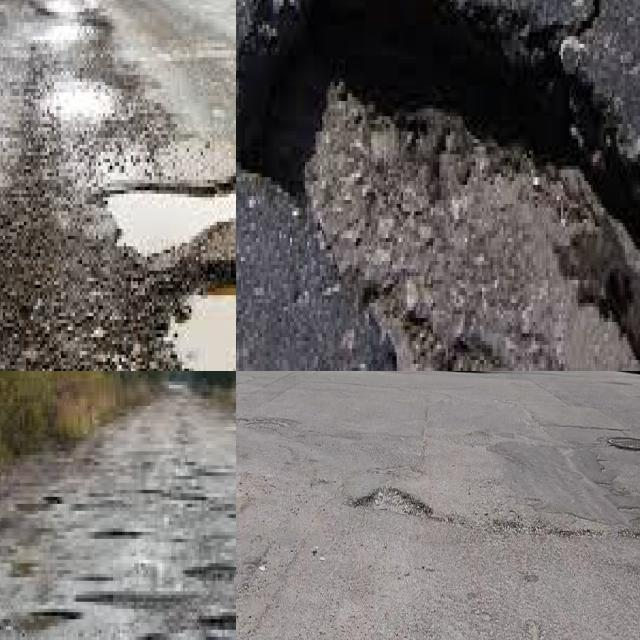Pothole: (260, 0, 640, 371), (105, 190, 236, 257), (166, 288, 236, 371), (351, 482, 433, 521), (133, 612, 236, 640), (0, 609, 80, 633), (73, 591, 188, 605), (185, 563, 236, 584)
